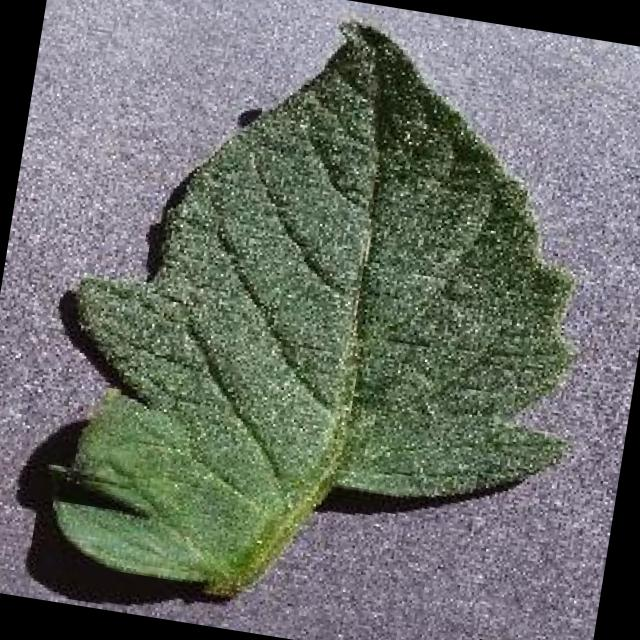Tomato_Healthy: (9, 0, 631, 640)
